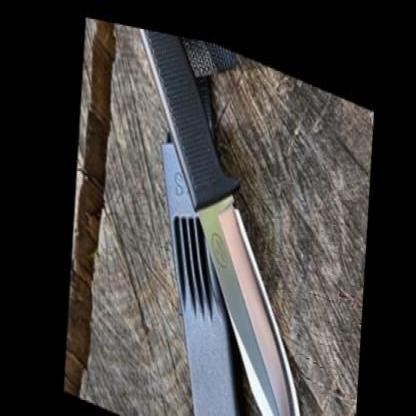knife: (163, 157, 331, 413)
